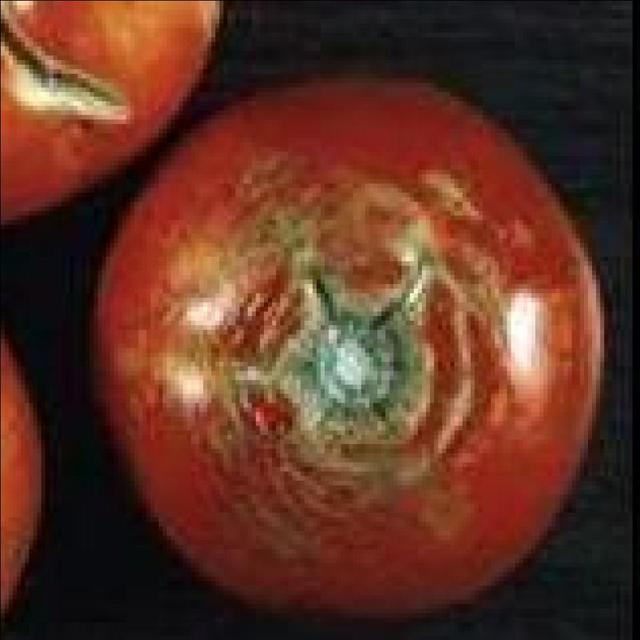Blossom End Rot Fruit: (49, 50, 298, 301)
